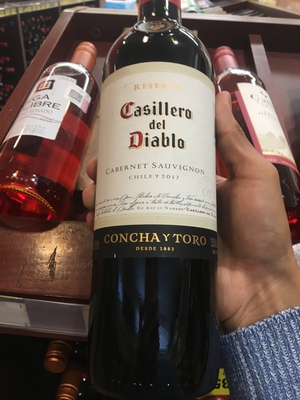casillero del diablo cabernet sauvignon: (90, 16, 230, 387)
